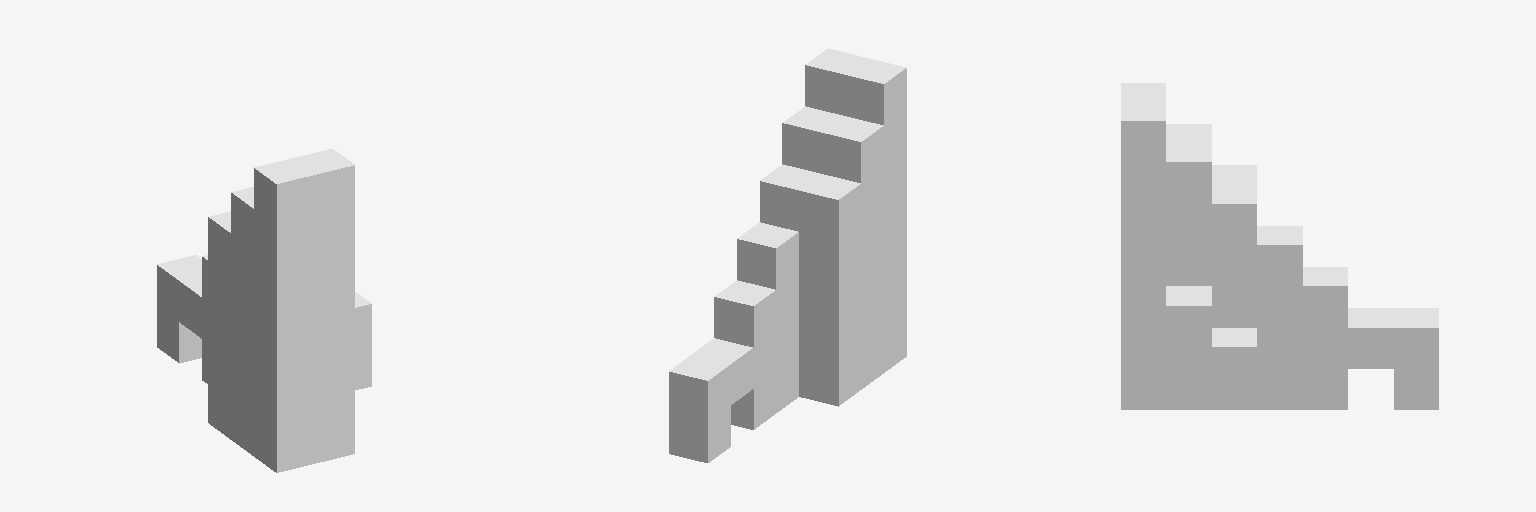
File: Wing_Chicken.obj
3 renders of one model, left to right at view 1: azimuth 30°, elevation 25°; view 2: azimuth 150°, elevation 25°; view 3: azimuth 270°, elevation 25°, orthographic.
Visible parts, largest first — view 1: object 1; view 2: object 1; view 3: object 1.
Boxes of the visible parts, x1=… form: object 1: x1=157, y1=148, x2=371, y2=472; object 1: x1=669, y1=49, x2=906, y2=462; object 1: x1=1121, y1=83, x2=1438, y2=409.
Bounding box in the file's own units: 0.3 × 0.7 × 0.7.